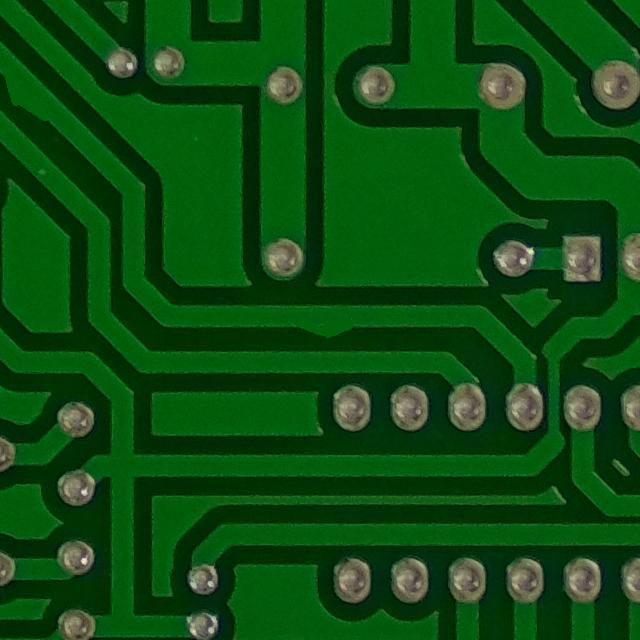spur: (273, 292, 368, 348)
